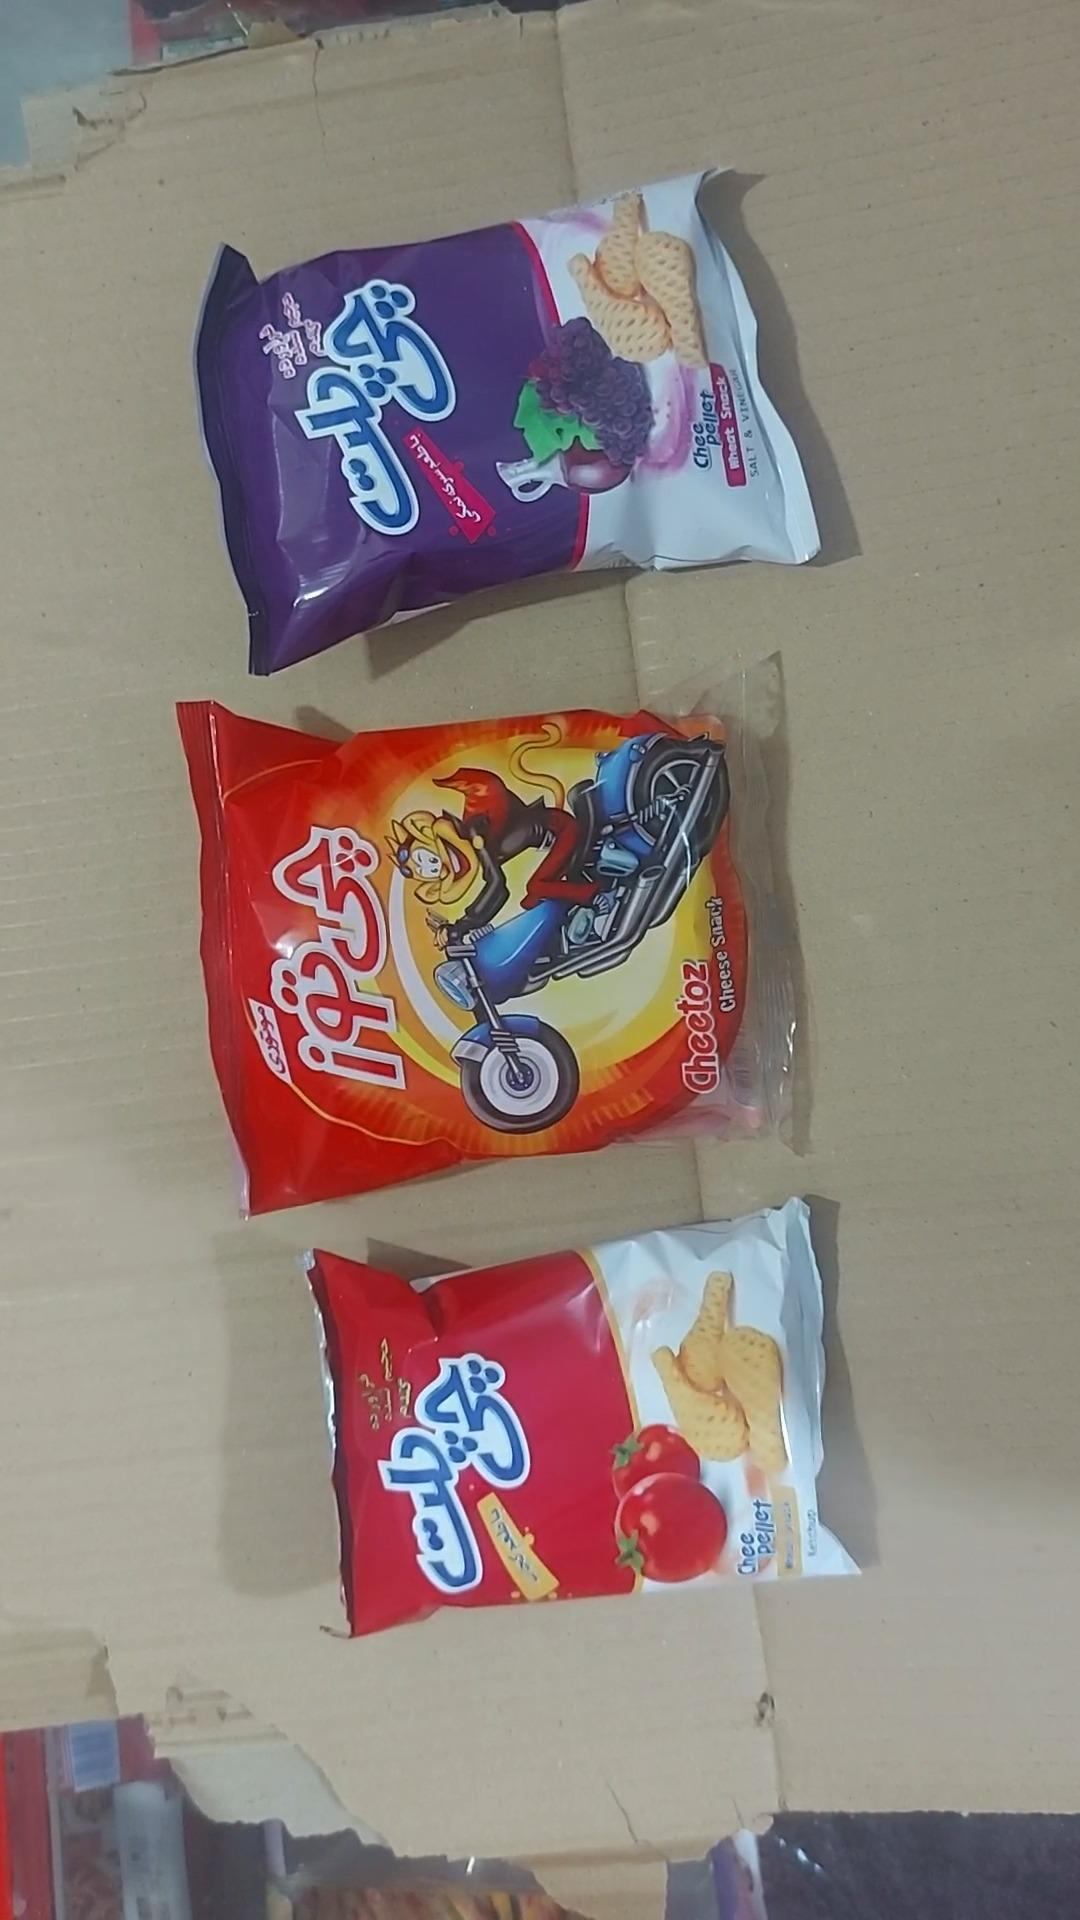Chee pellet ketchup: (305, 1200, 861, 1639)
Chee pellet vinegar: (196, 167, 825, 678)
Cheetoz snack 30g: (174, 653, 802, 1220)
